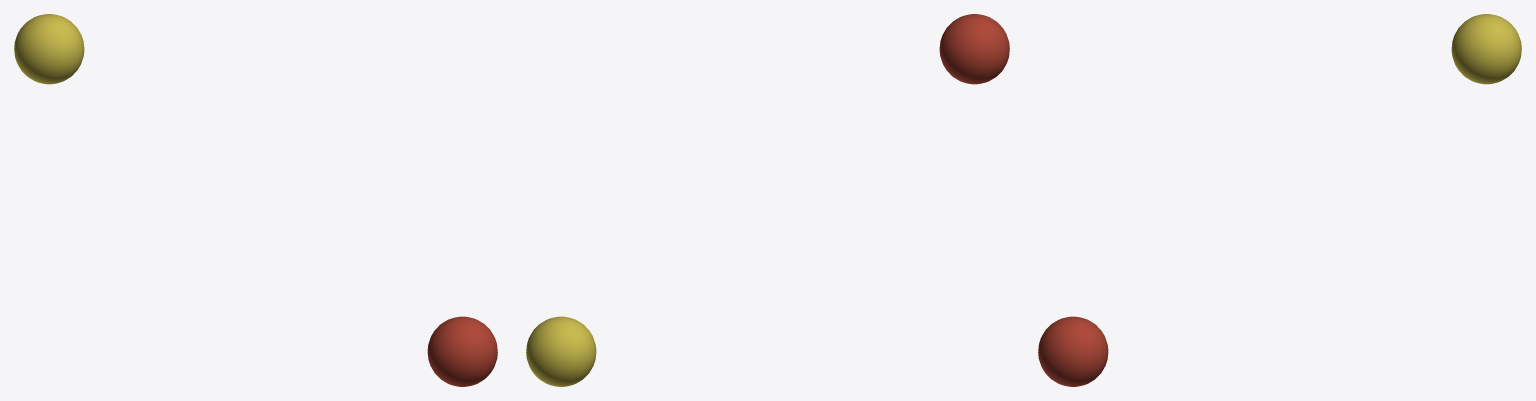
Rendered from sun_moon.fbx.
3 views of the same model, side by side, from view 1: azimuth 30°, elevation 25°; view 2: azimuth 150°, elevation 25°; view 3: azimuth 330°, elevation 25° (orthographic).
Visible parts, largest first — view 1: Sun&Moon; view 2: Sun&Moon; view 3: Sun&Moon.
Boxes of the visible parts, x1,y1,x2,y2 form: Sun&Moon: [14, 14, 497, 386]; Sun&Moon: [526, 14, 1009, 386]; Sun&Moon: [1038, 14, 1521, 386].
Bounding box in the file's own units: 51.22 × 51.22 × 652.
